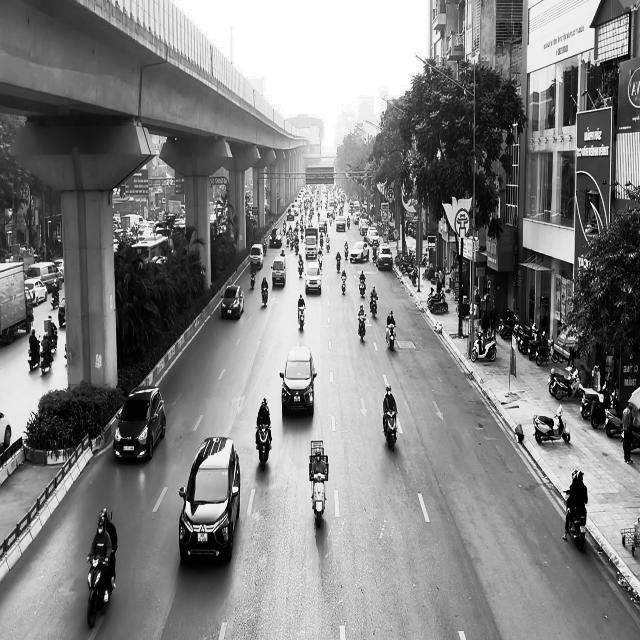car: (178, 435, 241, 562), (114, 386, 166, 461), (280, 344, 317, 416), (221, 284, 244, 319), (306, 260, 322, 294), (271, 258, 287, 288), (349, 241, 370, 263), (58, 298, 66, 327)
motorbike: (87, 552, 113, 628), (533, 404, 571, 444), (564, 491, 587, 551), (310, 470, 328, 527), (471, 330, 497, 362), (255, 424, 272, 468), (383, 409, 398, 452), (386, 323, 396, 350), (358, 314, 367, 342), (298, 305, 306, 330), (370, 294, 378, 318), (341, 270, 347, 294), (359, 278, 366, 297), (262, 284, 268, 306)
